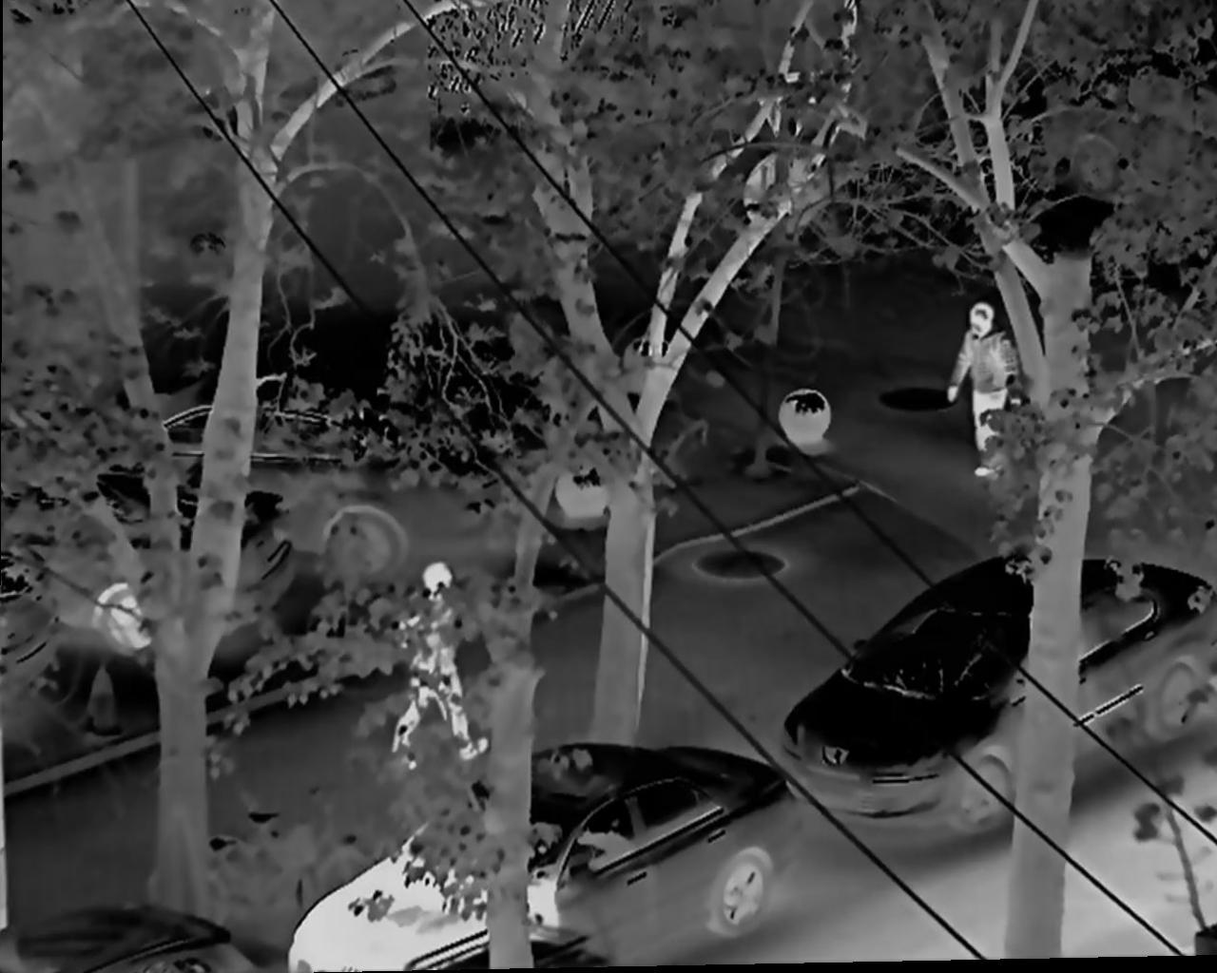person: (391, 559, 484, 775), (943, 303, 1021, 479)
